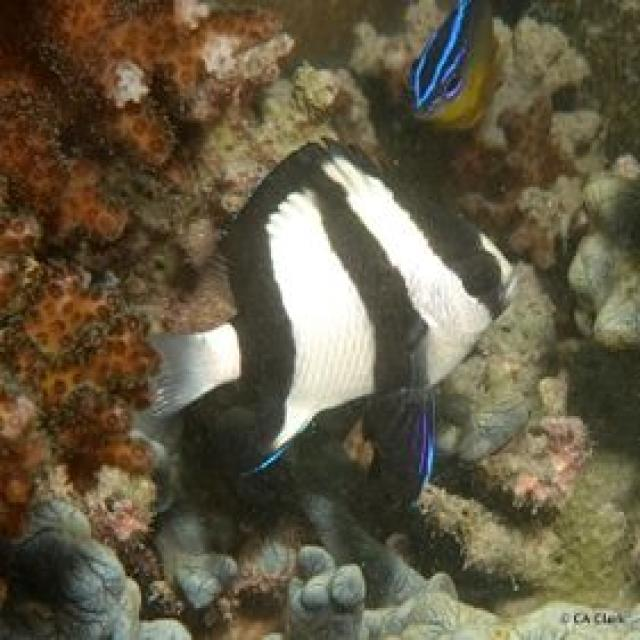ThreeStripedDamselfish: (143, 140, 510, 455)
